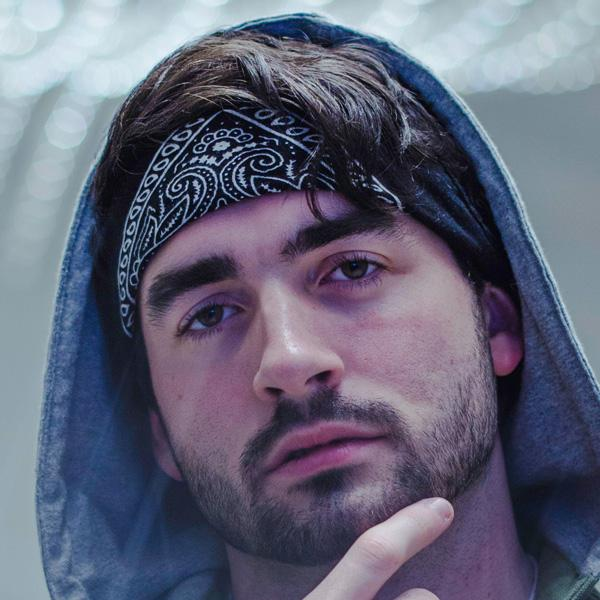Eyes: (164, 282, 256, 348), (308, 240, 398, 294)
